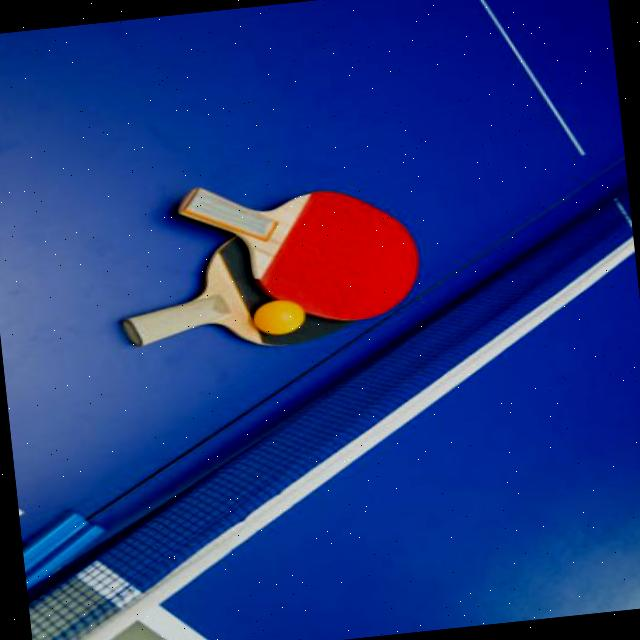ping-pong-ball: (255, 296, 307, 334)
